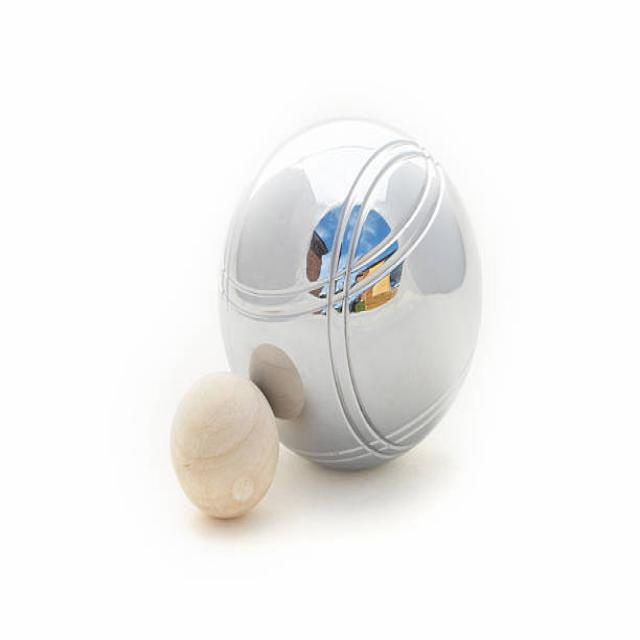hatball: (159, 367, 290, 531)
petanque: (213, 101, 489, 475)
